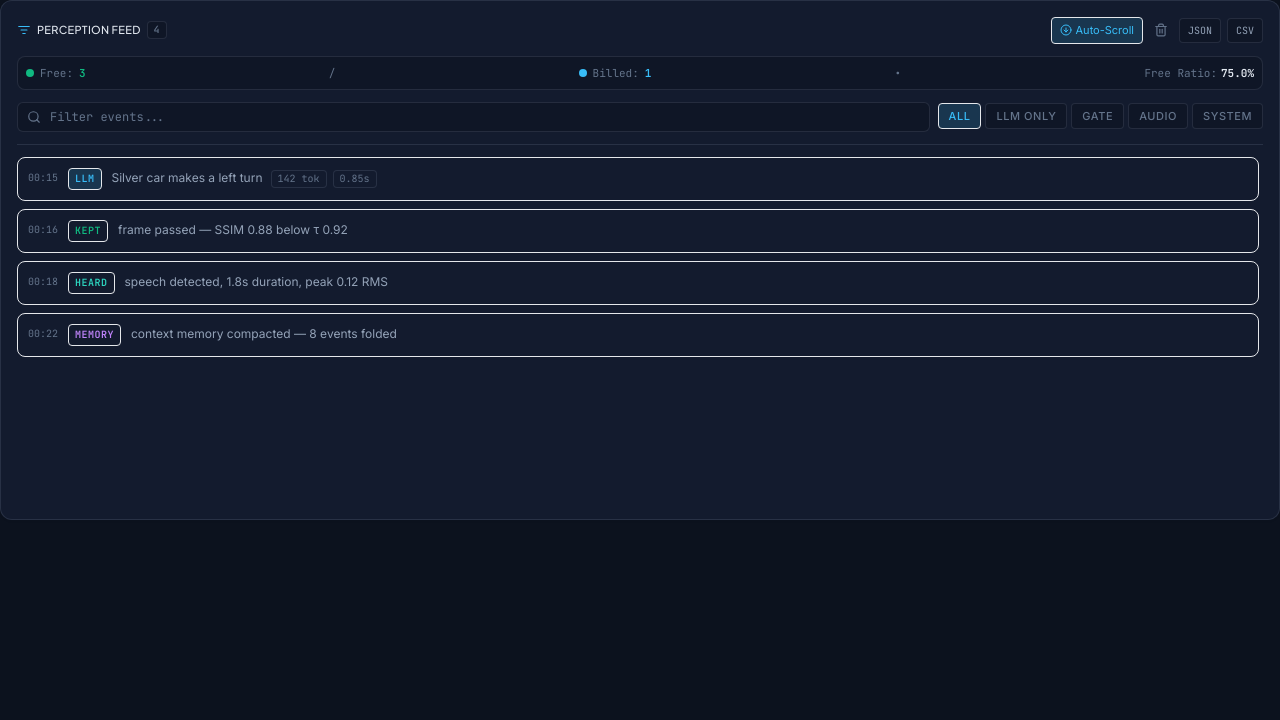
Scenario: PerceptionFeed Component › filters events by category chips
Expected: the text "Silver car makes a left turn" is shown, [112,170,262,185]
Expected: the text "speech detected, 1.8s duration, peak 0.12 RMS" is shown, [124,274,388,289]
// Filter by LLM only
Click the button "LLM only" at (1026, 116), box [986,103,1067,129]
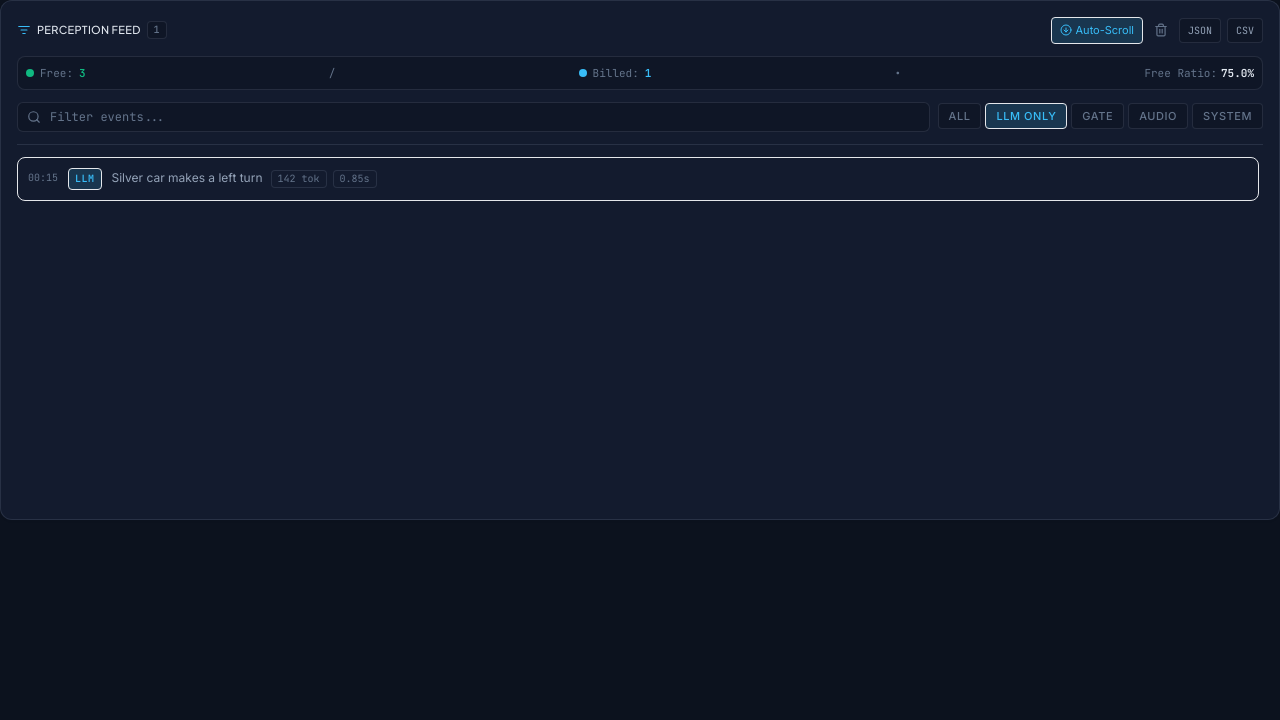
Expected: the text "Silver car makes a left turn" is shown, [112,170,262,185]
Expected: the text "speech detected" is gone
// Filter by Audio
Click the button "audio" at (1158, 116), box [1128,103,1188,129]
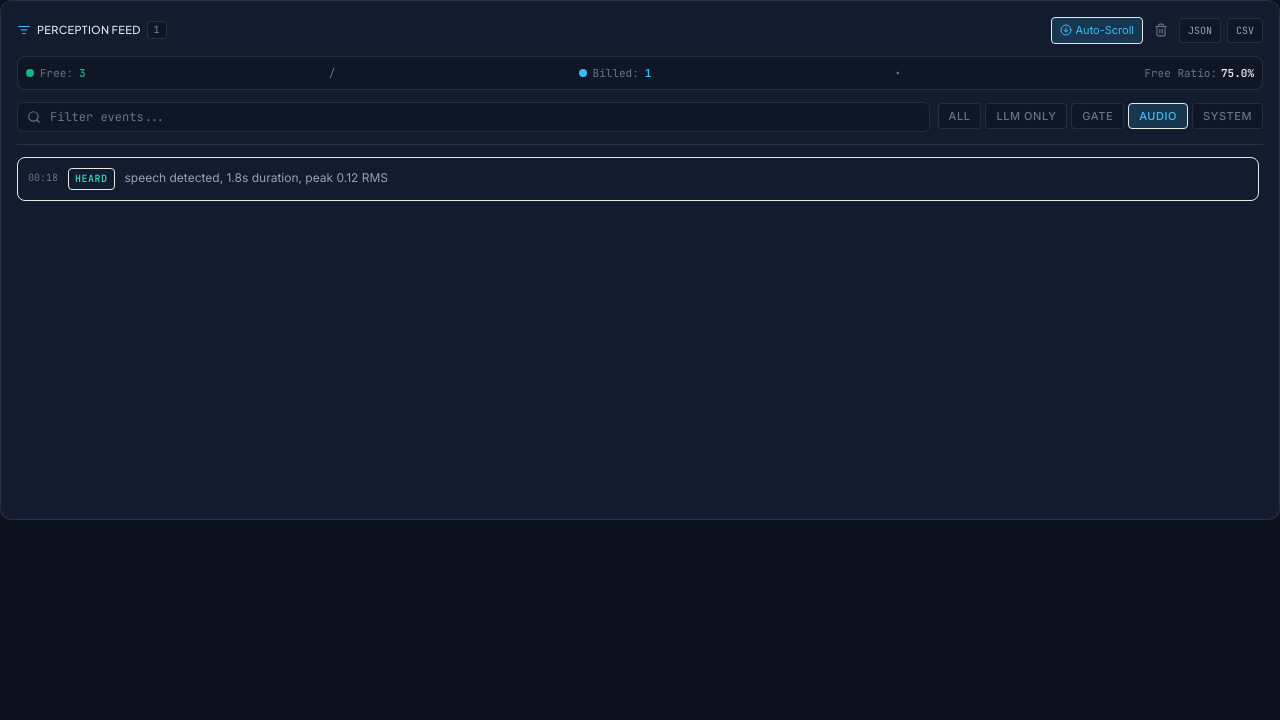
Expected: the text "Silver car makes a left turn" is gone
Expected: the text "speech detected, 1.8s duration, peak 0.12 RMS" is shown, [124,170,388,185]
